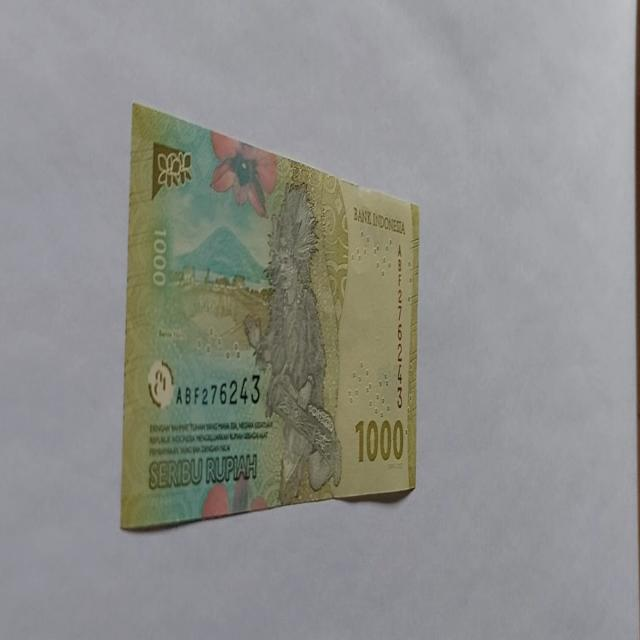seribu rupiah kertas: (120, 101, 420, 532)
